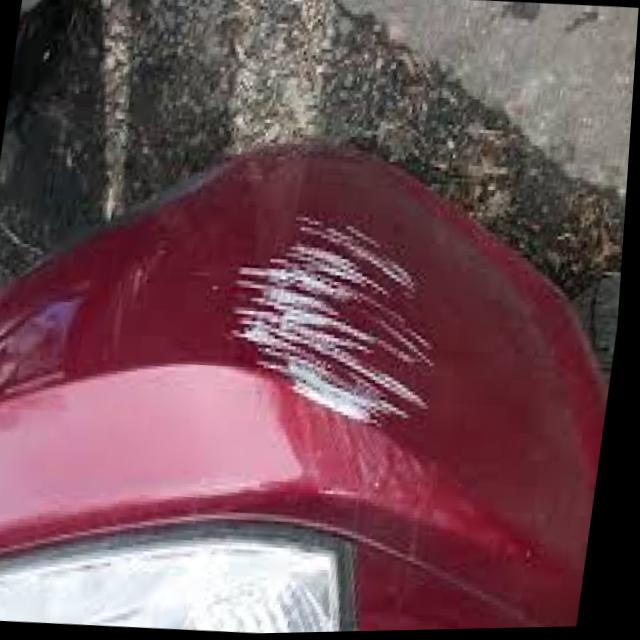Scratch: (229, 213, 445, 429)
